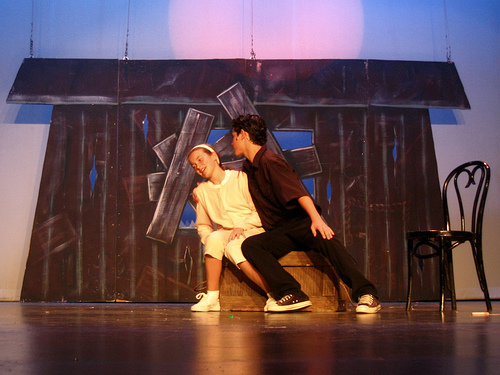without_mask: (229, 125, 265, 164), (187, 145, 222, 183)
